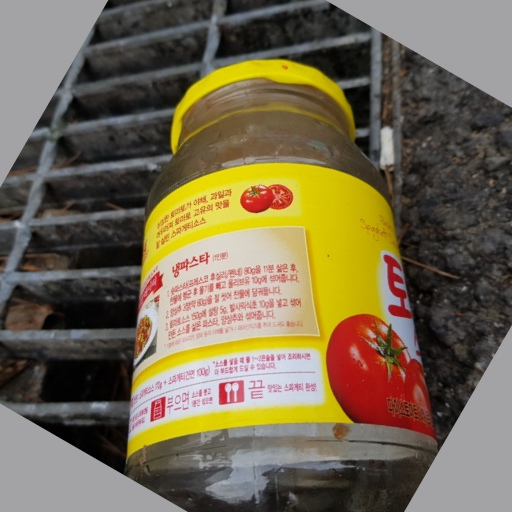Glass_5: (131, 61, 440, 507)
